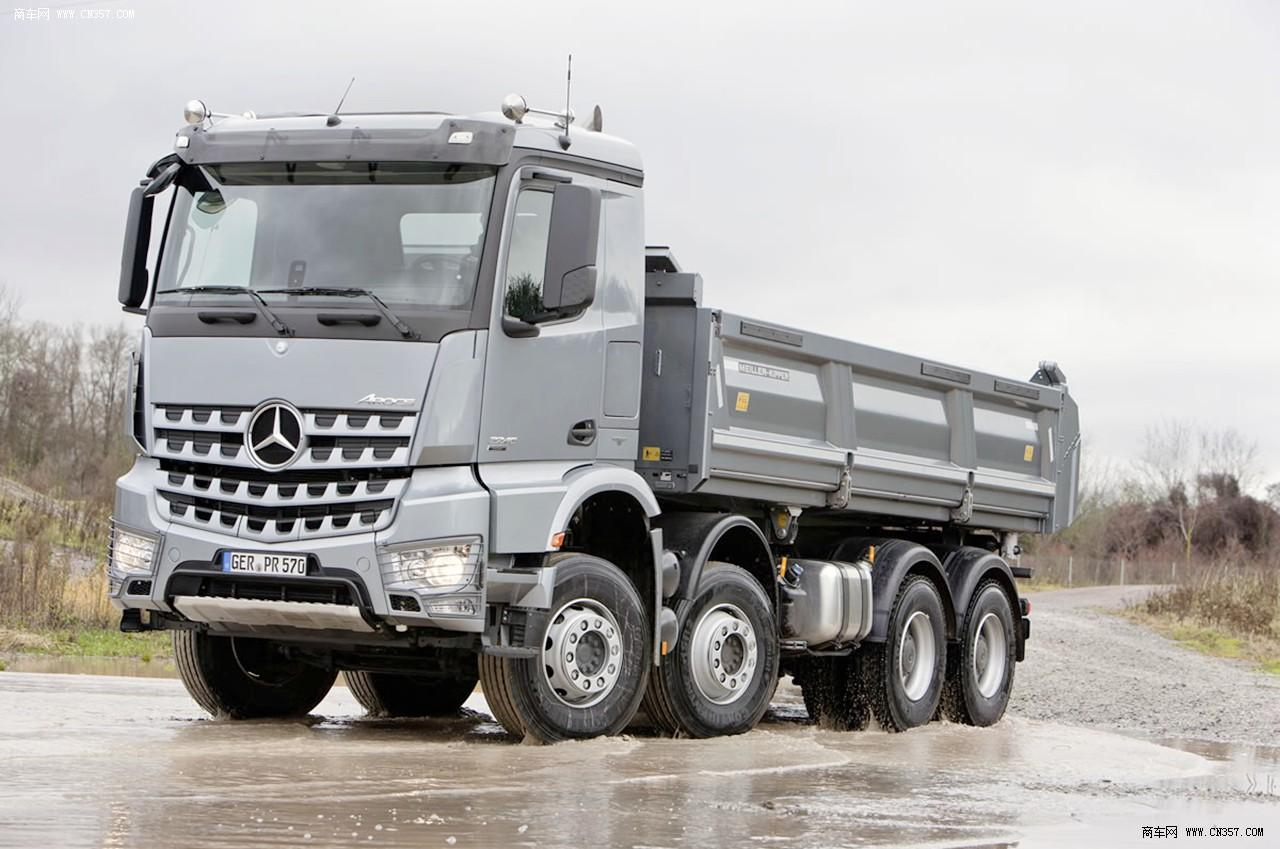truck: (98, 83, 1089, 761)
